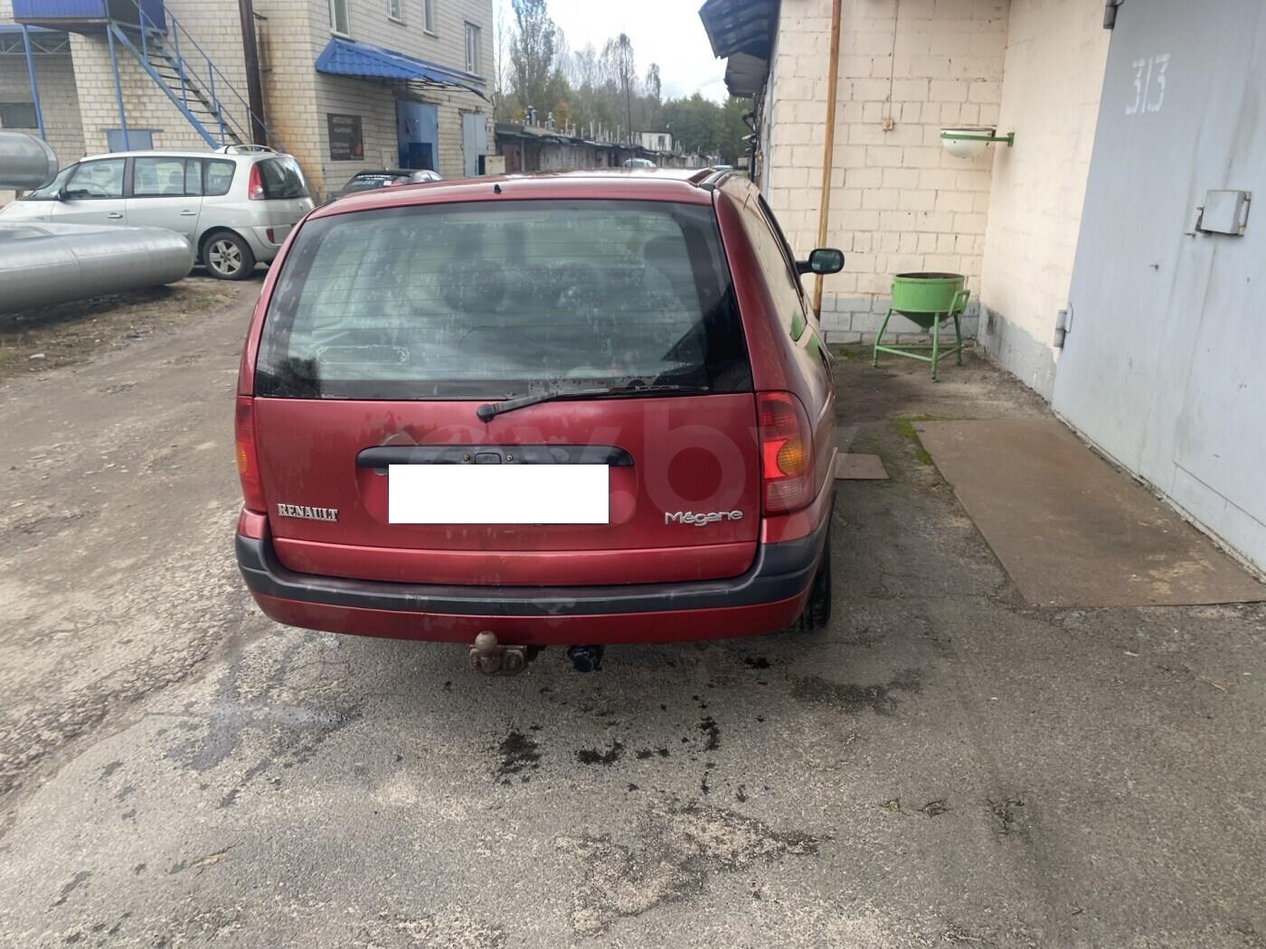Megane_1999-2003: (225, 160, 854, 665)
